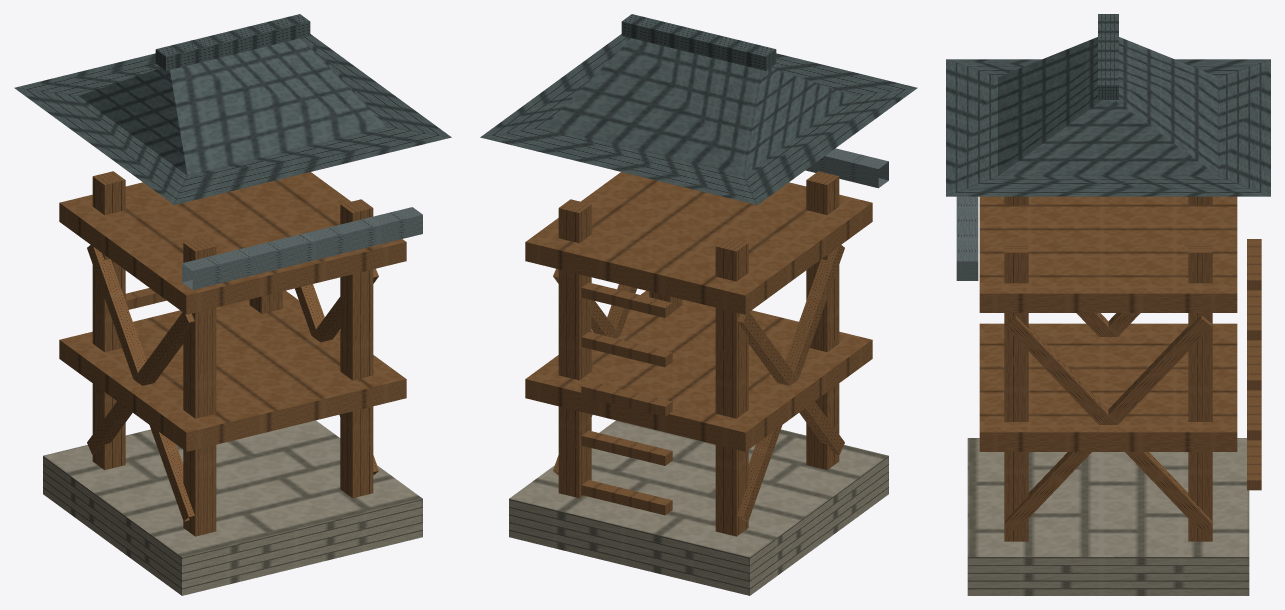
File: military-ARROW_TOWER-1-lod1.glb
The picture shows the model from 3 angles, left to right: view 1: azimuth 30°, elevation 25°; view 2: azimuth 150°, elevation 25°; view 3: azimuth 270°, elevation 25°; orthographic projection.
Bounding box in the file's own units: 0.53 × 0.876 × 0.53.
Materials: 1 (1 with a texture image).
